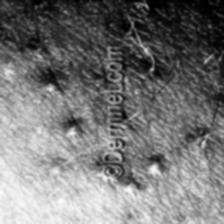Non-Cancerous Skin Condition: (131, 0, 224, 183), (0, 33, 88, 224)
